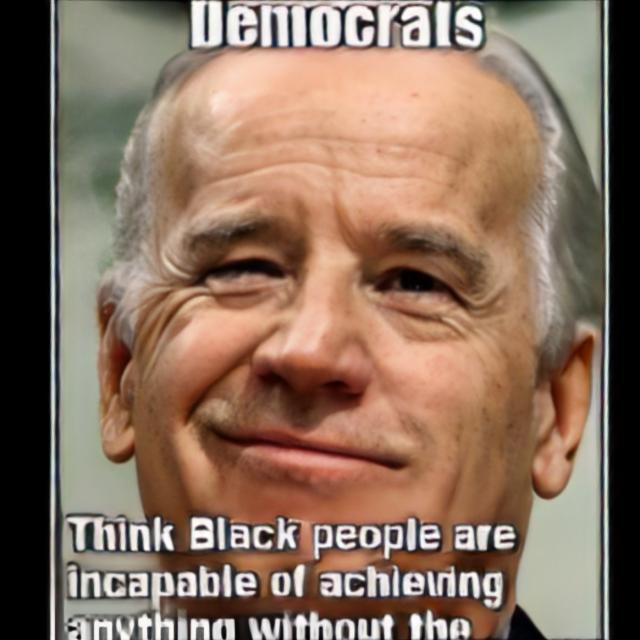content: (134, 49, 542, 610)
